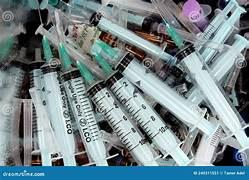Syringe: (95, 54, 190, 165), (77, 61, 157, 165), (116, 54, 214, 134), (176, 45, 248, 150), (59, 46, 107, 165), (79, 12, 174, 64), (41, 36, 75, 165), (90, 13, 174, 64), (29, 61, 57, 165), (29, 87, 59, 165), (127, 13, 182, 46), (210, 35, 248, 81), (200, 0, 236, 39), (65, 43, 103, 77), (212, 5, 245, 43), (194, 127, 221, 165)
